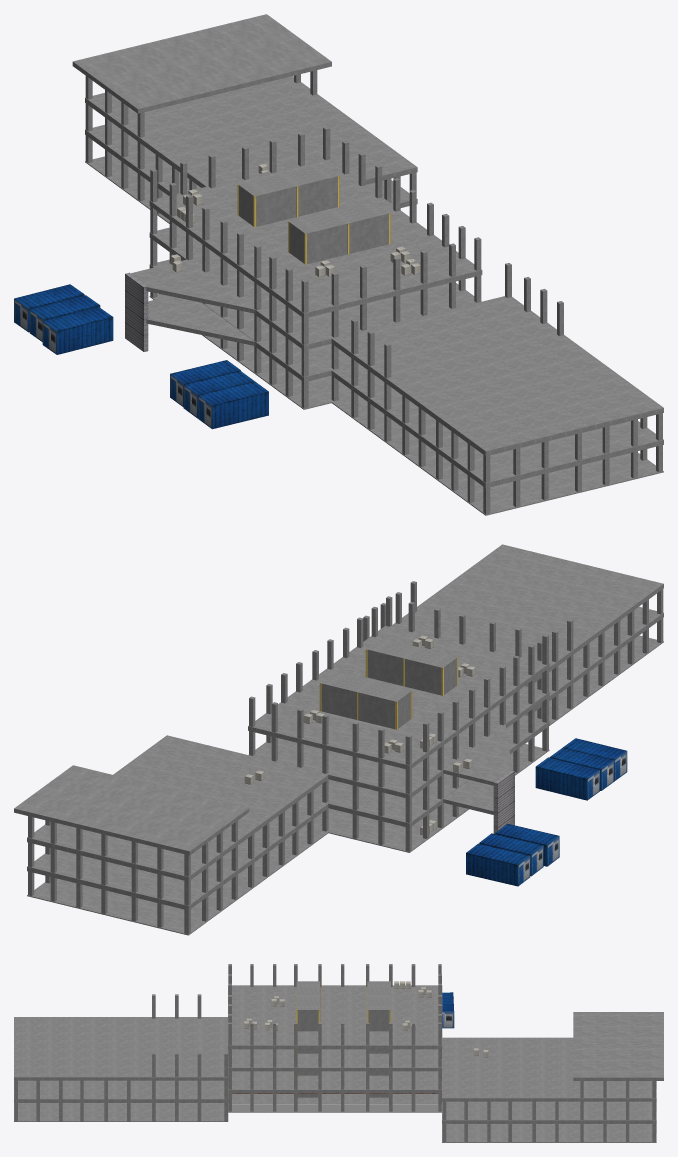
File: bldg.obj
3 views of the same model, one above another, from view 1: azimuth 30°, elevation 25°; view 2: azimuth 150°, elevation 25°; view 3: azimuth 270°, elevation 25° (orthographic). The views are drawn at different scales.
Parts seen in each view (by area): view 1: Box205, Box144, Box201, Box204, Box045, Box158, Box206, Box200, Box194, Box199, Box168, Box196 (+3 smaller); view 2: Box144, Box201, Box205, Box045, Box204, Box158, Box200, Box206, Box196, Box198, Box168, Box194 (+3 smaller); view 3: Box205, Box144, Box201, Box204, Box045, Box158, Box206, Box200, Box159, Box196.
Part boxes in pixels (x1,y1,x2,y2): Box205: [331, 296, 663, 515]; Box144: [131, 158, 482, 409]; Box201: [85, 76, 417, 223]; Box204: [72, 14, 331, 113]; Box045: [150, 126, 481, 408]; Box158: [237, 163, 390, 264]; Box206: [351, 263, 662, 514]; Box200: [85, 70, 416, 214]; Box194: [42, 307, 113, 354]; Box199: [198, 381, 268, 429]; Box168: [125, 272, 148, 351]; Box196: [14, 284, 84, 332]; Box144: [248, 625, 549, 852]; Box201: [27, 735, 328, 935]; Box205: [393, 544, 663, 743]; Box045: [249, 596, 548, 851]; Box204: [14, 765, 249, 855]; Box158: [319, 638, 458, 729]; Box200: [28, 790, 313, 934]; Box206: [363, 581, 663, 719]; Box196: [466, 843, 530, 886]; Box198: [535, 757, 599, 800]; Box168: [493, 770, 514, 833]; Box194: [495, 823, 559, 866]; Box205: [14, 1017, 228, 1121]; Box144: [228, 985, 442, 1112]; Box201: [442, 1037, 656, 1142]; Box204: [573, 1012, 663, 1080]; Box045: [228, 964, 441, 1111]; Box158: [296, 981, 390, 1097]; Box206: [14, 994, 227, 1121]; Box200: [442, 1081, 656, 1141]; Box159: [232, 1104, 438, 1111]; Box196: [442, 992, 454, 1028].
Bounding box in the file's own units: 45.59 × 13.64 × 90.95.
